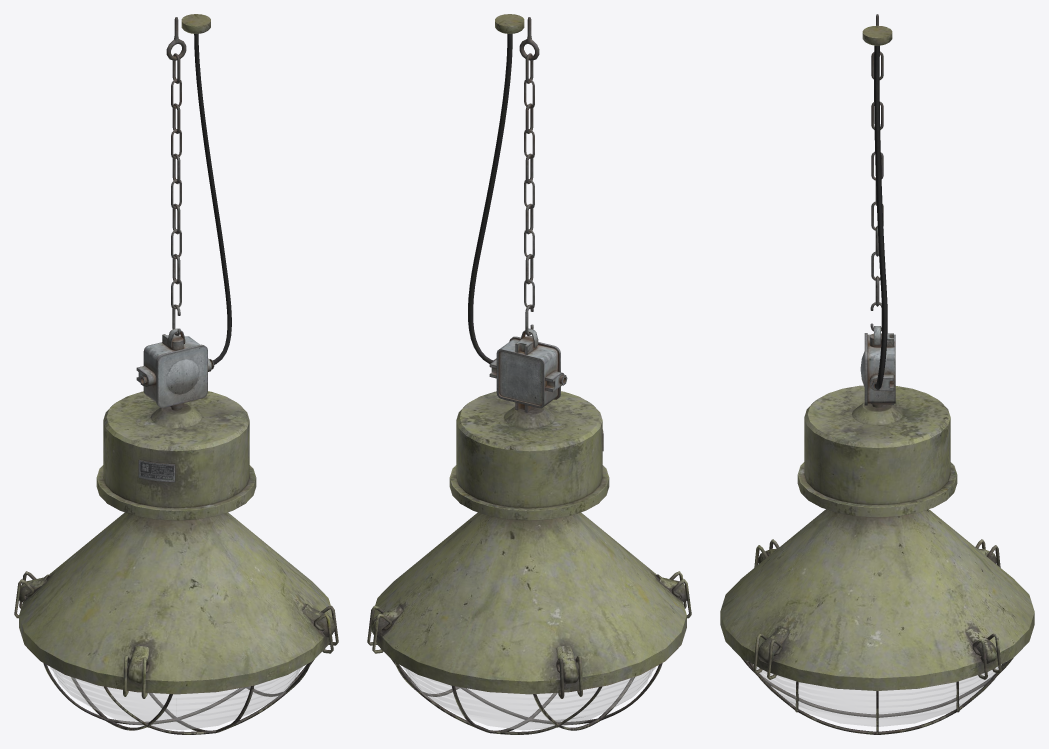
The model's file is hanging_industrial_lamp.glb.
The picture shows the model from 3 angles, left to right: view 1: azimuth 30°, elevation 25°; view 2: azimuth 150°, elevation 25°; view 3: azimuth 270°, elevation 25°; orthographic projection.
Parts seen in each view (by area): view 1: hanging_industrial_lamp; view 2: hanging_industrial_lamp; view 3: hanging_industrial_lamp.
Boxes of the visible parts, <box> form: hanging_industrial_lamp: <box>14,14,338,734</box>; hanging_industrial_lamp: <box>367,14,691,734</box>; hanging_industrial_lamp: <box>720,14,1034,734</box>.
Bounding box in the file's own units: 0.5496 × 1.36 × 0.5496.
Materials: 2 (1 with a texture image).
